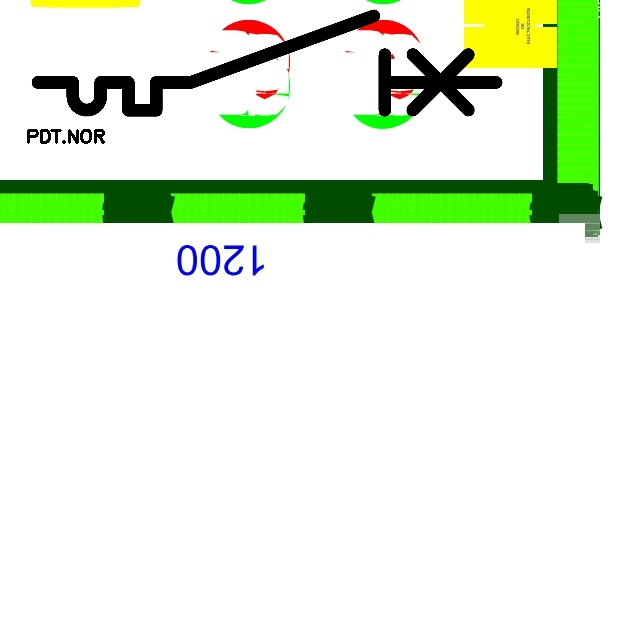interruptor_termomagnetico: (26, 4, 508, 122)
